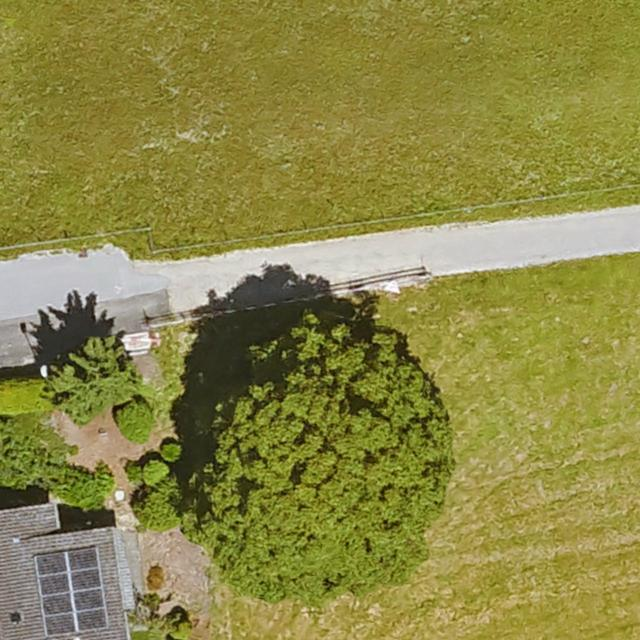tree: (190, 330, 451, 585), (48, 337, 137, 417)
